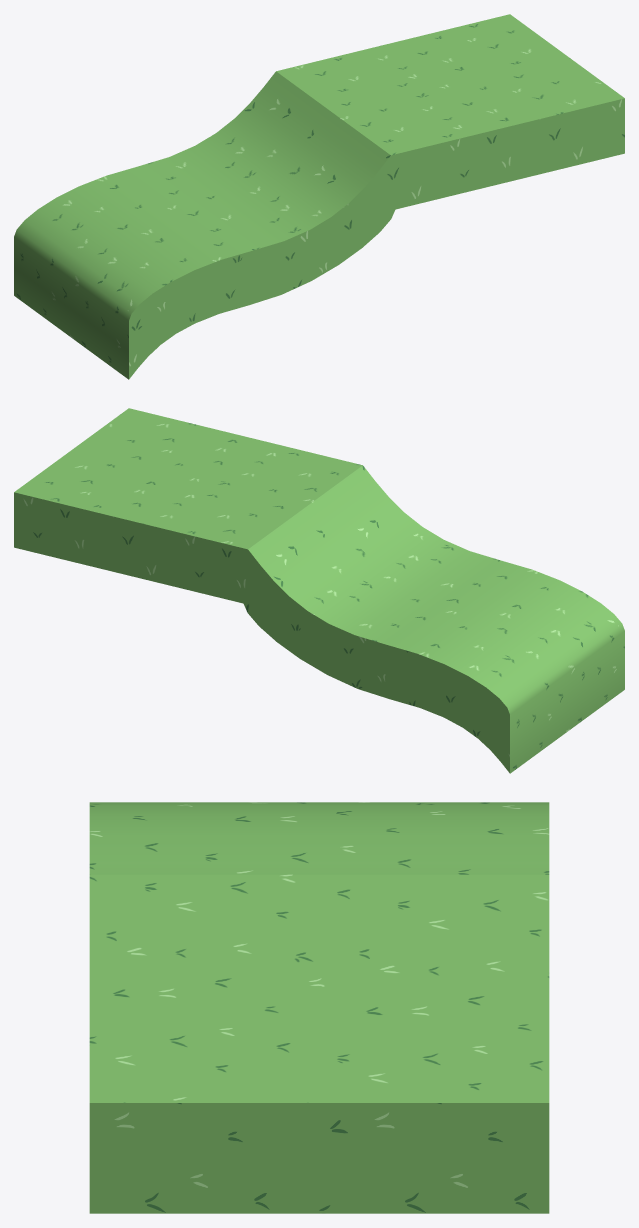
The model's file is GardenPlatform19.fbx.
The picture shows the model from 3 angles, top to bottom: view 1: azimuth 30°, elevation 25°; view 2: azimuth 150°, elevation 25°; view 3: azimuth 270°, elevation 25°; orthographic projection. The views are drawn at different scales.
Visible parts, largest first — view 1: GardenPlatform19; view 2: GardenPlatform19; view 3: GardenPlatform19.
Boxes of the visible parts, bbox=[...] form: GardenPlatform19: bbox=[14, 14, 624, 379]; GardenPlatform19: bbox=[14, 408, 624, 773]; GardenPlatform19: bbox=[89, 802, 549, 1213].
Bounding box in the file's own units: 1690 × 522 × 678.
